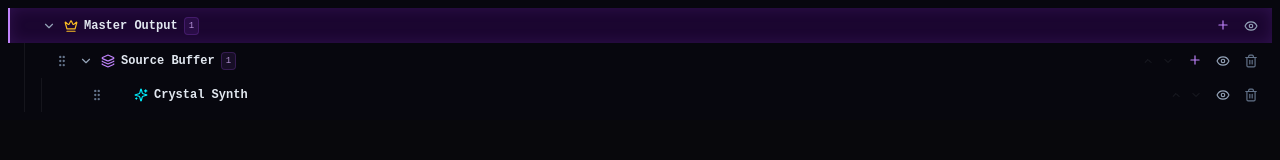
WorkspacePane Component › deletes a leaf node immediately without showing confirmation modal
The image size is (1280, 160).
Note: synth-child has no children
Click the button with test id "tree-delete-btn-synth-child": (1251, 95) [1240,84,1262,106]
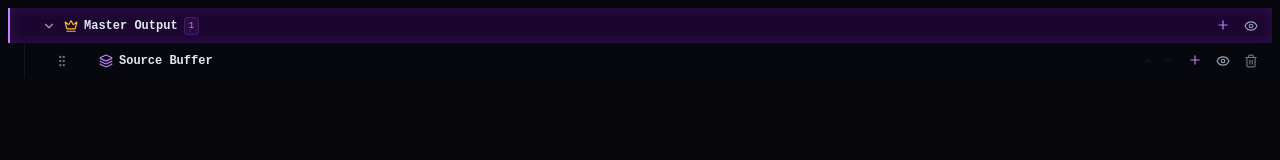
Now the element with test id "layer-tree-item-synth-child" is gone
